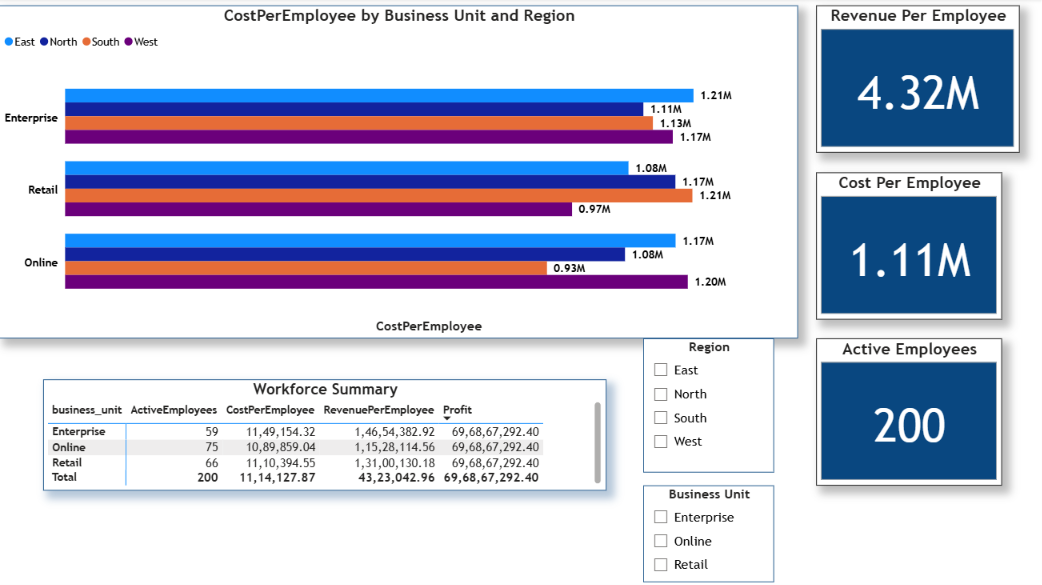

What the dashboard file says about the page in this screenshot:
{"tool":"powerbi","page":{"name":"Workforce Efficiency","canvas":[1280,720],"ordinal":3},"visuals":[{"type":"cardVisual","title":"Active Employees","fields":{"Data":["capstone_project headcount.ActiveEmployees"]},"box":[998.6,415.7,227.1,180],"z":0},{"type":"cardVisual","title":"Cost Per Employee","fields":{"Data":["capstone_project headcount.CostPerEmployee"]},"box":[998.6,212.9,227.1,180],"z":1000},{"type":"cardVisual","title":"Revenue Per Employee","fields":{"Data":["capstone_project headcount.RevenuePerEmployee"]},"box":[998.6,8.6,248.6,180],"z":2000},{"type":"clusteredBarChart","title":"CostPerEmployee by Business Unit and Region","fields":{"Category":["capstone_project headcount.business_unit"],"Series":["capstone_project headcount.region"],"Y":["capstone_project headcount.CostPerEmployee"]},"box":[0,8.6,977.1,407.1],"z":3000},{"type":"pivotTable","title":"Workforce Summary","fields":{"Rows":["capstone_project headcount.business_unit"],"Values":["capstone_project headcount.ActiveEmployees","capstone_project headcount.CostPerEmployee","capstone_project headcount.RevenuePerEmployee","capstone_project financial_transactions.Profit"]},"box":[54.3,465.7,688.6,135.7],"z":4000},{"type":"slicer","title":"Business Unit","fields":{"Values":["Dim_Business_Unit.business_unit"]},"box":[787.1,595.7,160.2,118.6],"z":6000},{"type":"slicer","title":"Region","fields":{"Values":["Dim_Region.region"]},"box":[787.1,415.7,160.2,163.9],"z":8000}]}

Visuals, with their boxes in screenshot pixels (x1, y1, x2, y2), scaled from the page's 1280x720 canvas onto the 1042x585 screenshot:
"Active Employees" cardVisual: [813, 338, 998, 484]
"Cost Per Employee" cardVisual: [813, 173, 998, 319]
"Revenue Per Employee" cardVisual: [813, 7, 1015, 153]
"CostPerEmployee by Business Unit and Region" clusteredBarChart: [0, 7, 795, 338]
"Workforce Summary" pivotTable: [44, 378, 605, 489]
"Business Unit" slicer: [641, 484, 771, 580]
"Region" slicer: [641, 338, 771, 471]
